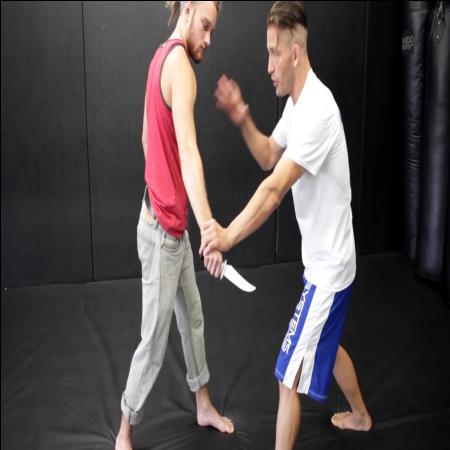long weapon: (197, 247, 258, 298)
